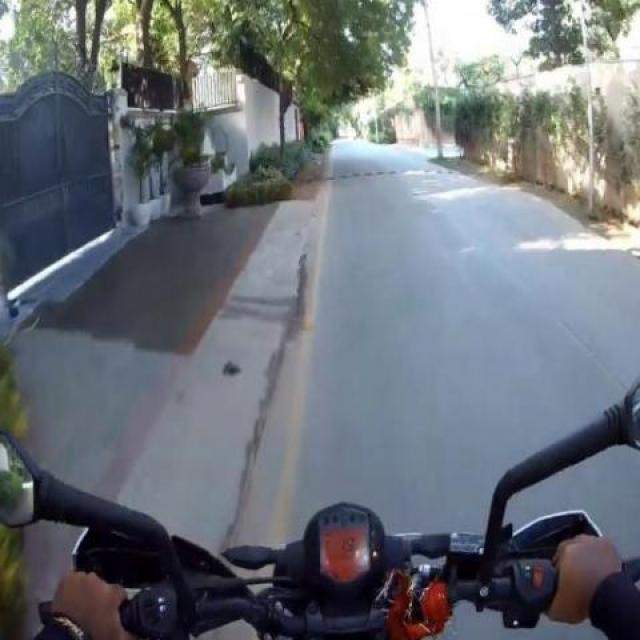Speed Bump: (319, 168, 462, 182)
